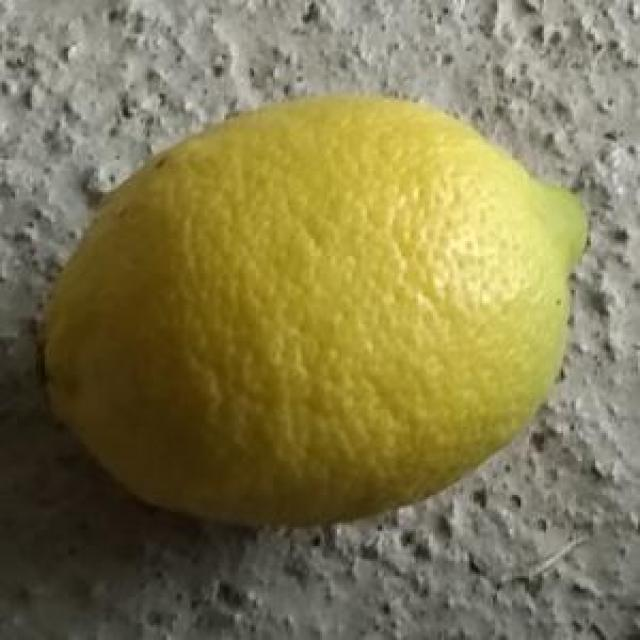lemon: (31, 54, 594, 558)
